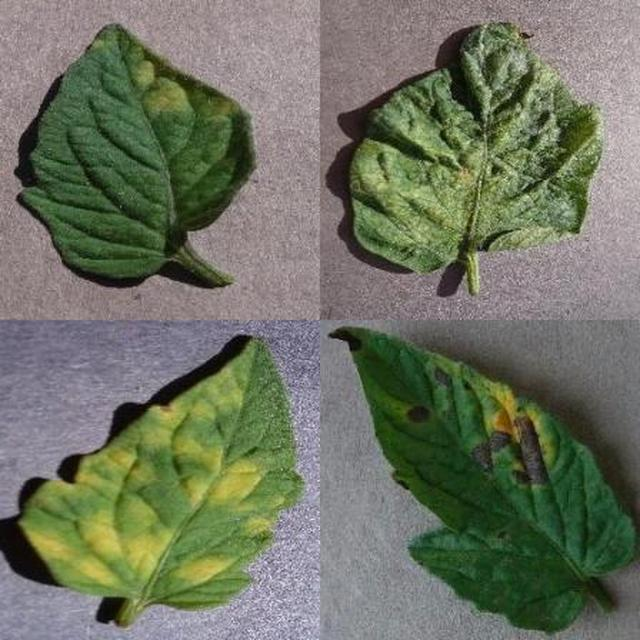Leaf Mold: (197, 210, 640, 640)
